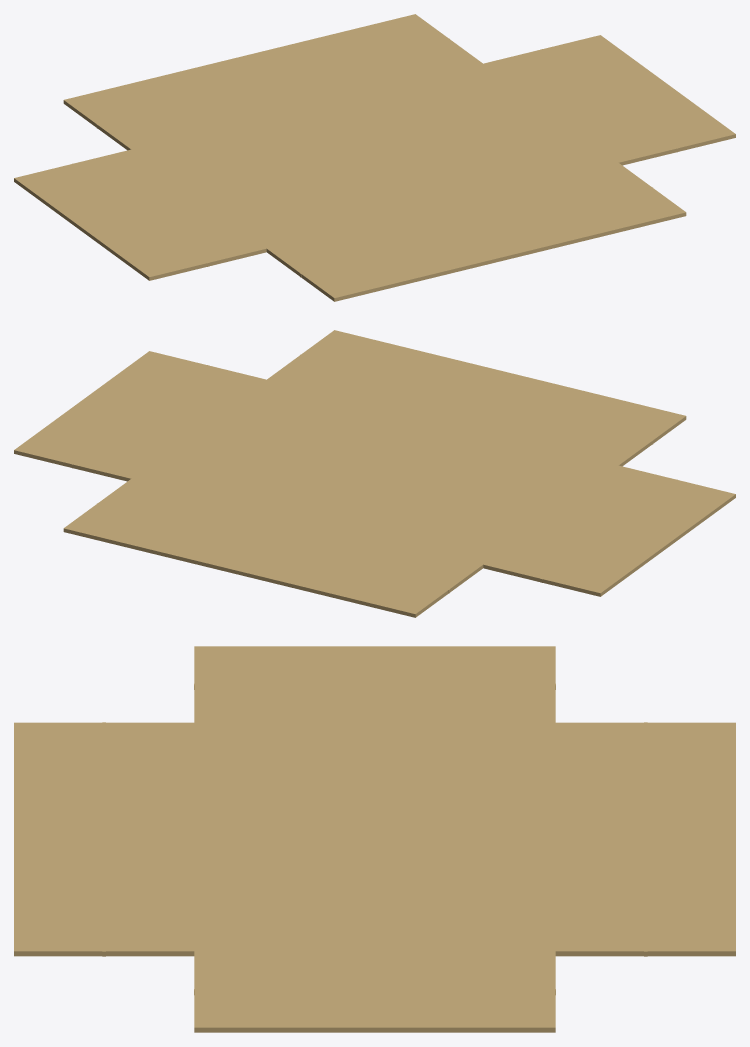
The model's file is paper.glb.
The picture shows the model from 3 angles, top to bottom: view 1: azimuth 30°, elevation 25°; view 2: azimuth 150°, elevation 25°; view 3: azimuth 270°, elevation 25°; orthographic projection. The views are drawn at different scales.
Visible parts, largest first — view 1: ActualCrossBlank; view 2: ActualCrossBlank; view 3: ActualCrossBlank.
Boxes of the visible parts, <box> form: ActualCrossBlank: <box>14,14,735,301</box>; ActualCrossBlank: <box>14,330,735,617</box>; ActualCrossBlank: <box>14,646,735,1032</box>.
Size of the model in its own units: 0.5 by 0.003 by 0.4.
